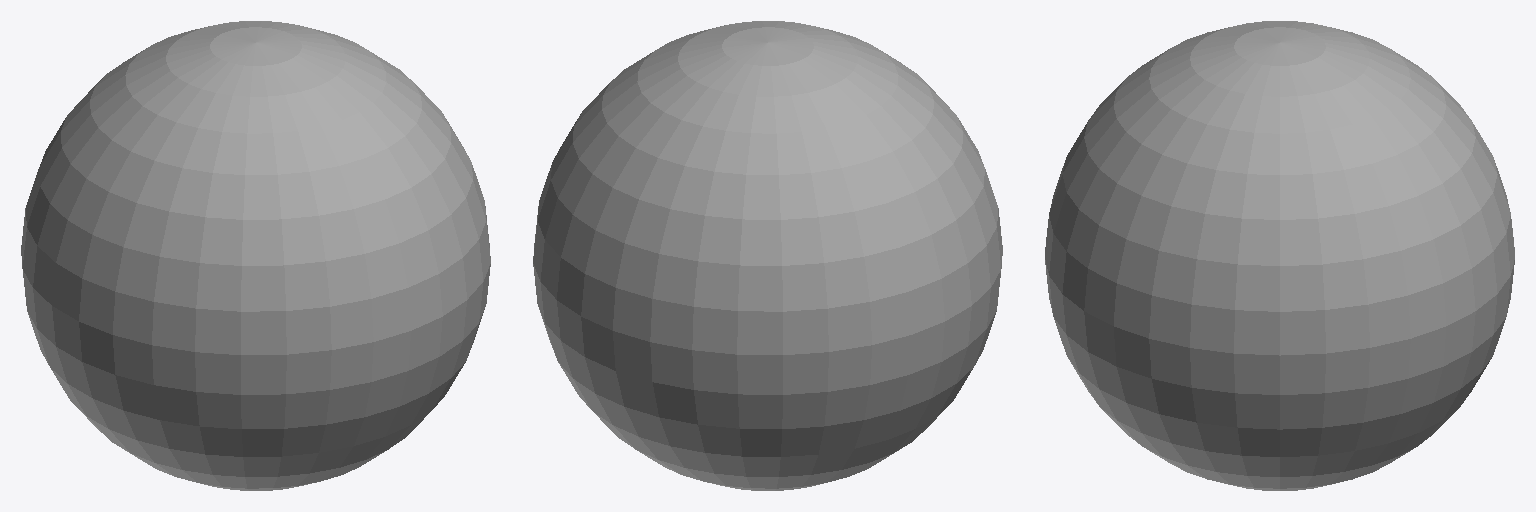
File: sphare.obj
The picture shows the model from 3 angles: view 1: azimuth 30°, elevation 25°; view 2: azimuth 150°, elevation 25°; view 3: azimuth 270°, elevation 25°; orthographic projection.
Visible parts, largest first — view 1: Sphere; view 2: Sphere; view 3: Sphere.
Boxes of the visible parts, box(x1,y1,x2,y2) form: Sphere: box(21, 21, 490, 490); Sphere: box(533, 21, 1002, 490); Sphere: box(1045, 21, 1514, 490).
Size of the model in its own units: 2 by 2 by 2.